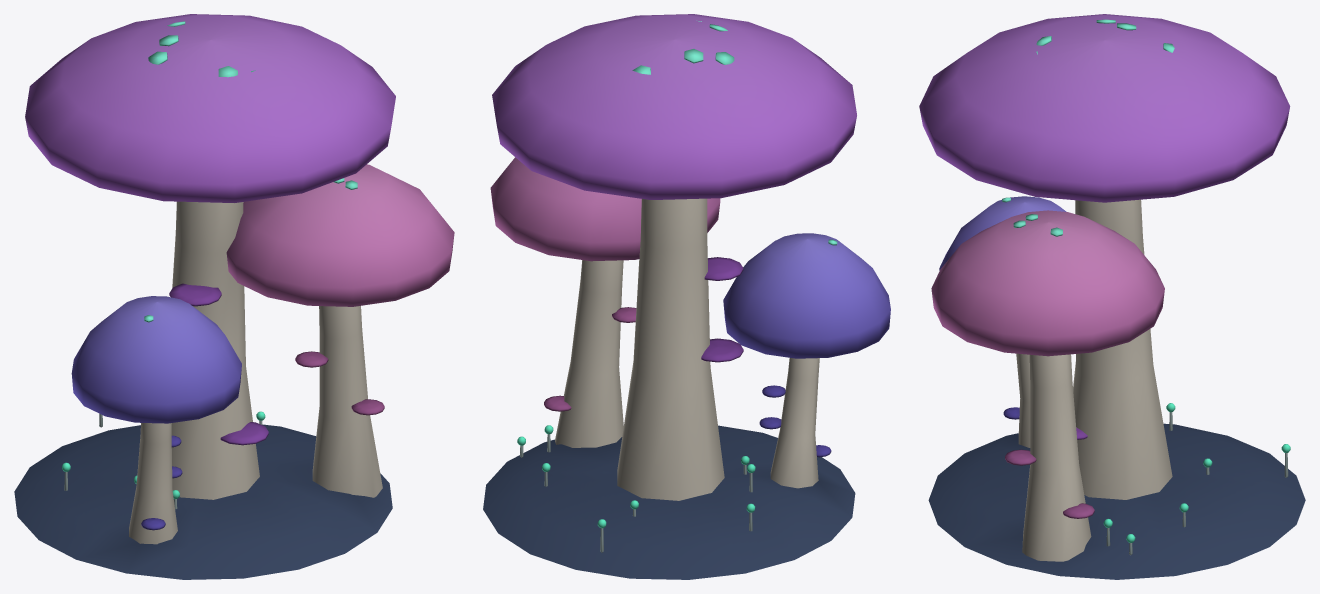
The model's file is glowcap.glb.
3 views of the same model, side by side, from view 1: azimuth 30°, elevation 25°; view 2: azimuth 150°, elevation 25°; view 3: azimuth 270°, elevation 25° (orthographic).
Visible parts, largest first — view 1: glowcap; view 2: glowcap; view 3: glowcap.
Boxes of the visible parts, x1,y1,x2,y2 form: glowcap: [14, 14, 454, 579]; glowcap: [483, 14, 890, 579]; glowcap: [919, 14, 1305, 579].
Bounding box in the file's own units: 3.14 × 3.78 × 2.87.
